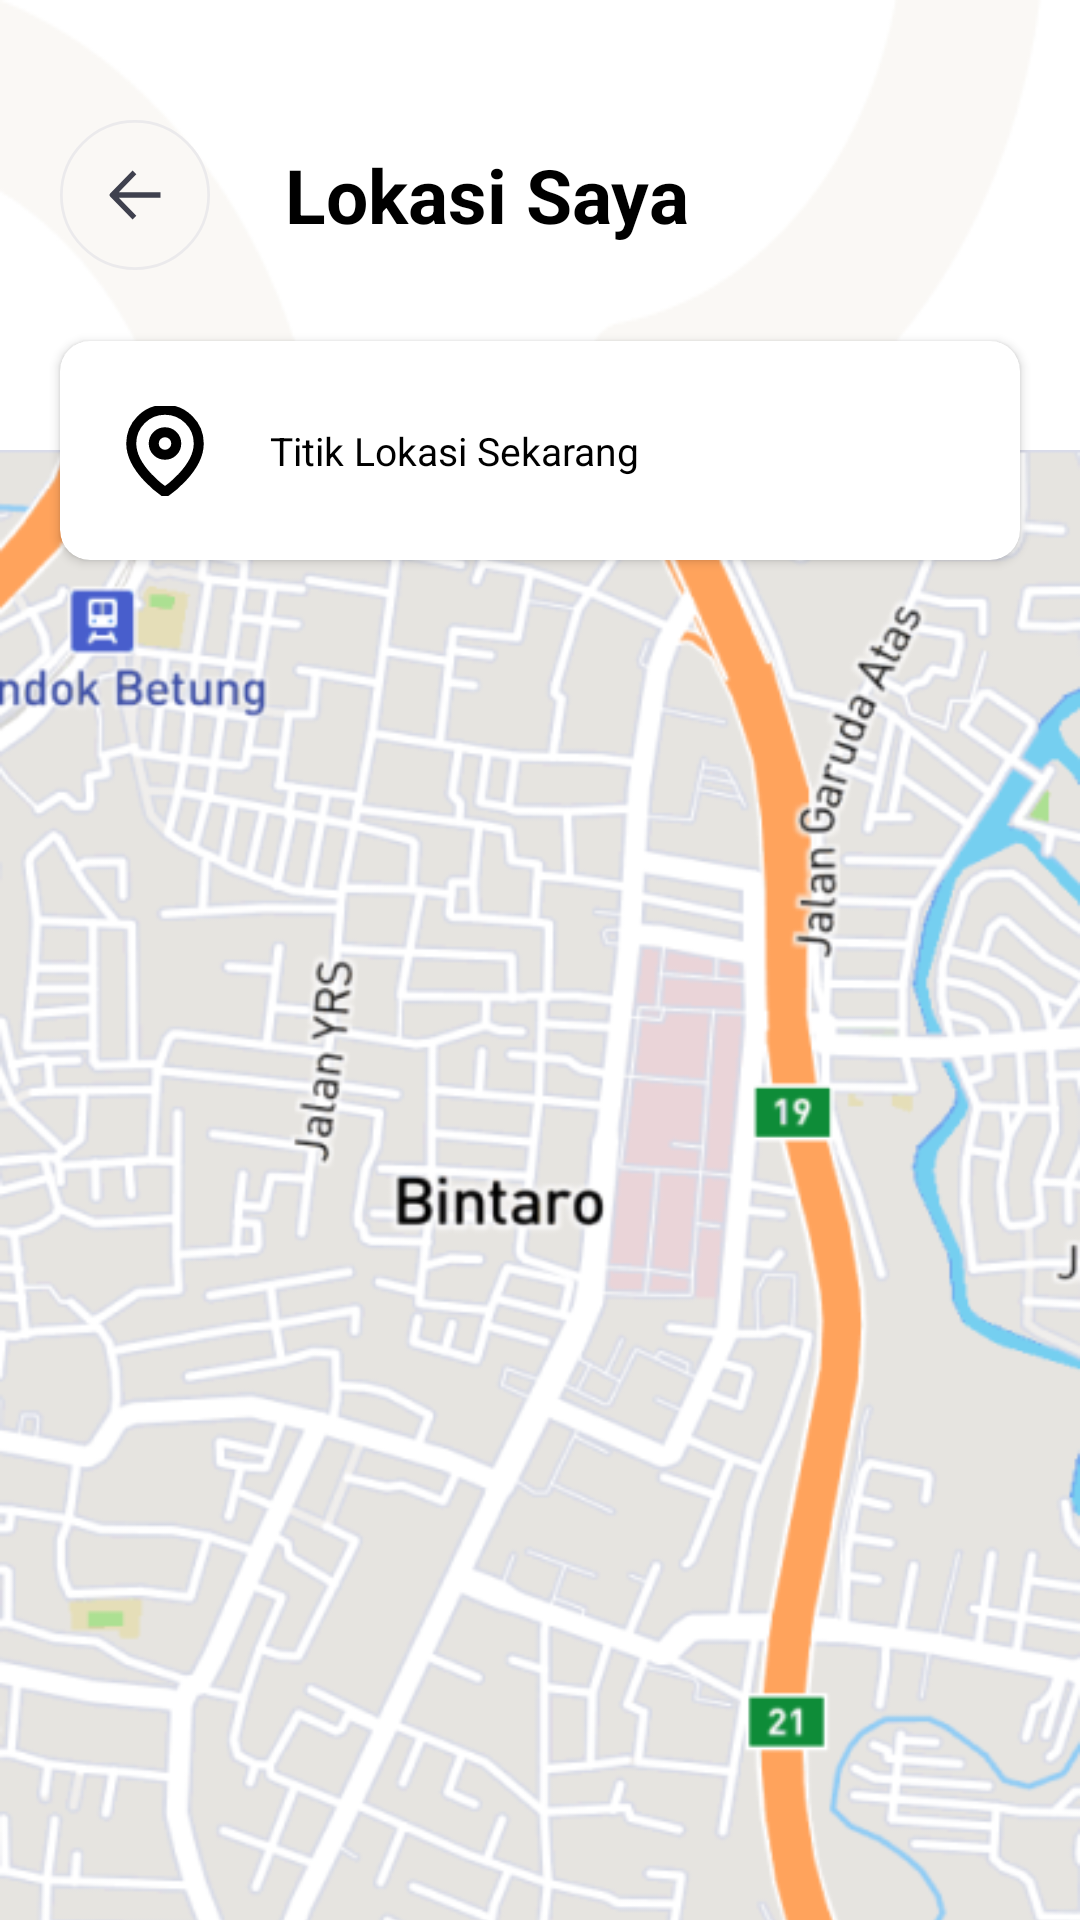

Locate icon controls on the screen. Image size 1080px×1920px, boxes as rect(x1, y1, x2, y2).
back: rect(109, 170, 161, 220)
markerhome: rect(126, 406, 204, 496)
